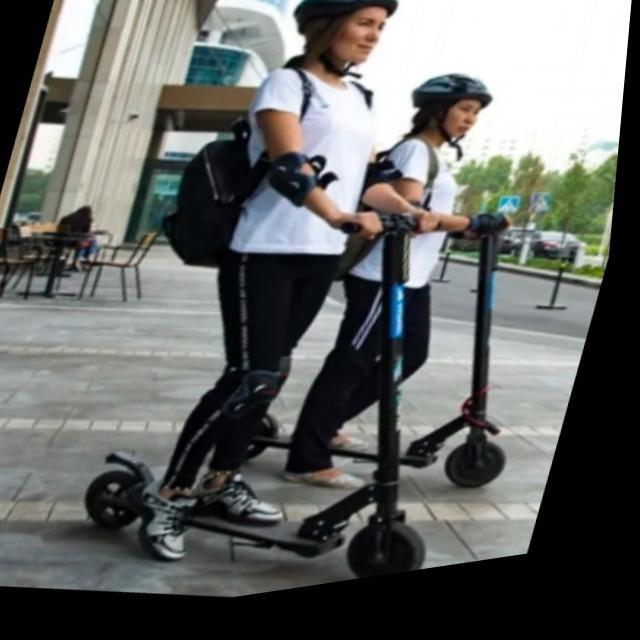Helmet: (403, 66, 495, 150)
